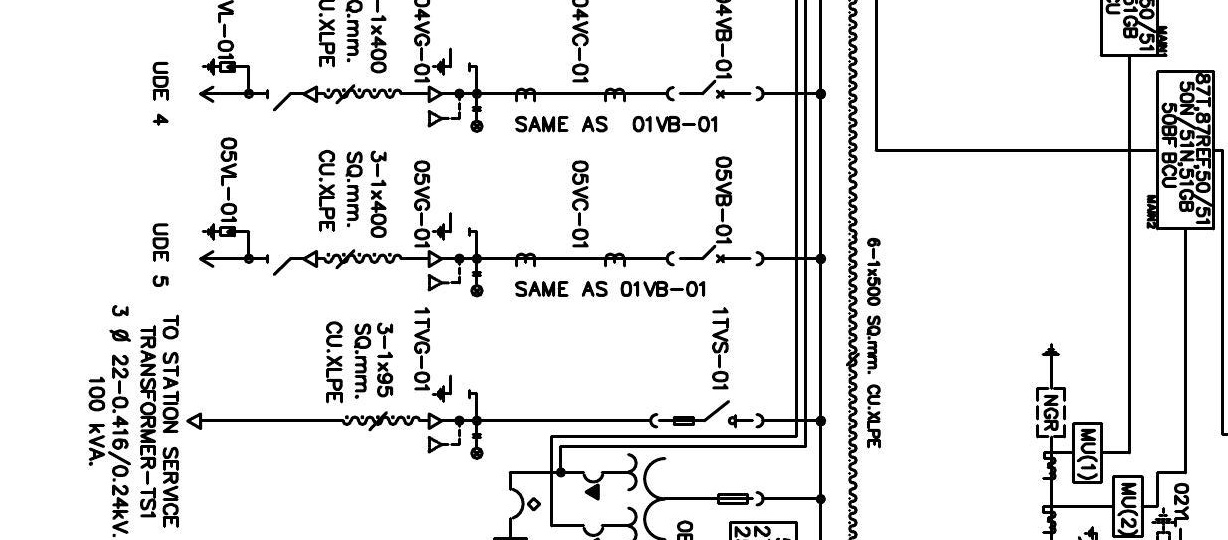22_breaker: (665, 79, 765, 102), (666, 244, 766, 267)
22_ds: (648, 399, 765, 429)
22_ds_la_out: (198, 58, 292, 112), (198, 223, 292, 277)
22_gs: (431, 46, 471, 77), (432, 211, 472, 242), (432, 374, 472, 404)
22_ll: (469, 105, 484, 133), (470, 270, 485, 298), (470, 433, 485, 461)
MU: (1111, 475, 1145, 538), (1072, 421, 1104, 485)
NGR_future: (1035, 342, 1067, 439)
terminator_single: (185, 411, 203, 431), (302, 84, 319, 104), (303, 249, 319, 269)
terminator_w_future: (427, 249, 462, 294), (427, 412, 462, 455), (427, 85, 461, 129)
